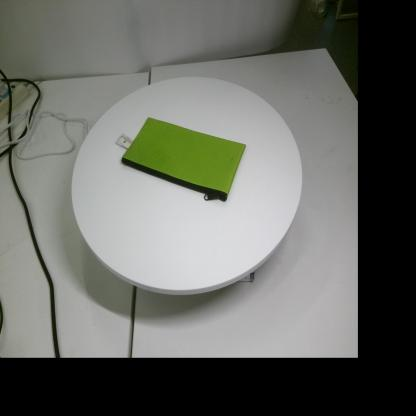Stationery: (117, 117, 246, 202)
